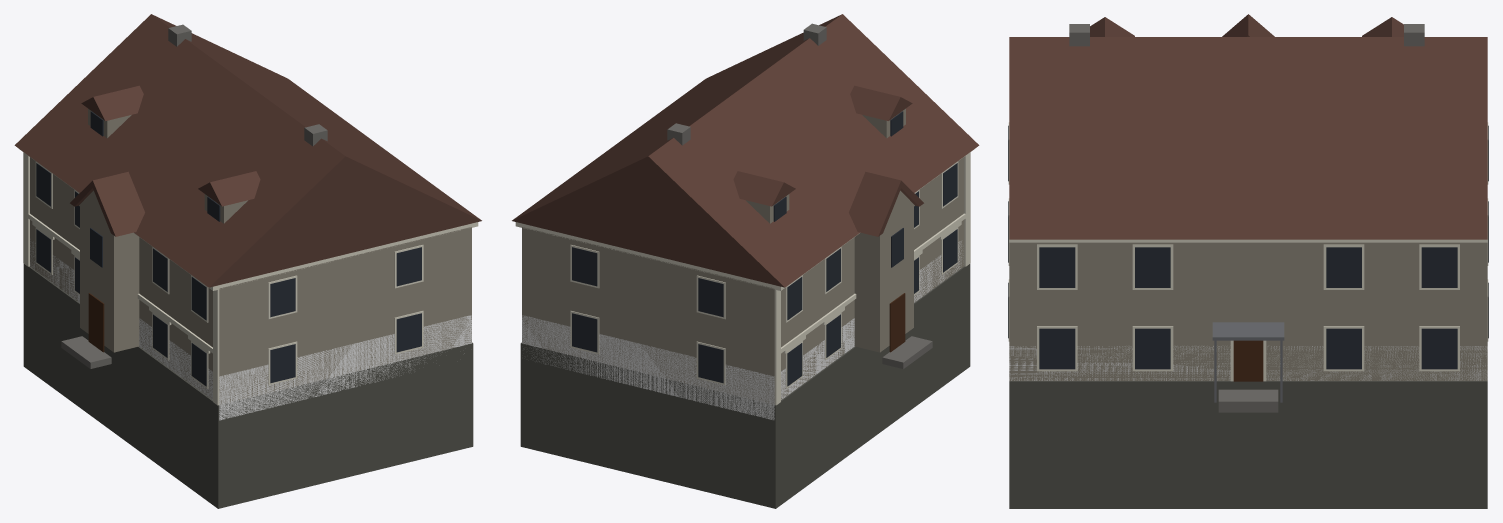
File: house-low-2.glb
The picture shows the model from 3 angles, left to right: view 1: azimuth 30°, elevation 25°; view 2: azimuth 150°, elevation 25°; view 3: azimuth 270°, elevation 25°; orthographic projection. The views are drawn at different scales.
Visible parts, largest first — view 1: 04_#5a4038, 00_#55554f, 01_paint0, solid, 03_#2e333b, 02_#d8d4c4, 06_#6e6c68, 05_#4a3020; view 2: 04_#5a4038, 00_#55554f, 01_paint0, solid, 03_#2e333b, 02_#d8d4c4, 06_#6e6c68, 05_#4a3020; view 3: 04_#5a4038, 00_#55554f, 01_paint0, 03_#2e333b, 02_#d8d4c4, solid, 06_#6e6c68, 07_#6a6c70, 05_#4a3020.
Part boxes in pixels (bbox=[...]): 04_#5a4038: bbox=[14, 14, 481, 287]; 00_#55554f: bbox=[23, 264, 473, 508]; 01_paint0: bbox=[30, 108, 471, 404]; solid: bbox=[30, 239, 471, 420]; 03_#2e333b: bbox=[36, 111, 421, 386]; 02_#d8d4c4: bbox=[19, 149, 478, 405]; 06_#6e6c68: bbox=[61, 24, 327, 368]; 05_#4a3020: bbox=[88, 293, 104, 352]; 04_#5a4038: bbox=[512, 14, 979, 287]; 00_#55554f: bbox=[520, 264, 970, 508]; 01_paint0: bbox=[522, 108, 963, 404]; solid: bbox=[522, 241, 963, 420]; 03_#2e333b: bbox=[572, 111, 957, 386]; 02_#d8d4c4: bbox=[515, 149, 974, 405]; 06_#6e6c68: bbox=[667, 23, 932, 368]; 05_#4a3020: bbox=[889, 293, 905, 352]; 04_#5a4038: bbox=[1009, 14, 1487, 239]; 00_#55554f: bbox=[1009, 381, 1487, 508]; 01_paint0: bbox=[1009, 242, 1487, 380]; 03_#2e333b: bbox=[1008, 125, 1488, 369]; 02_#d8d4c4: bbox=[1008, 122, 1488, 381]; solid: bbox=[1009, 346, 1487, 380]; 06_#6e6c68: bbox=[1069, 24, 1424, 412]; 07_#6a6c70: bbox=[1212, 322, 1284, 402]; 05_#4a3020: bbox=[1233, 340, 1263, 381].
Size of the model in its own units: 15.4 by 14.9 by 16.09.
